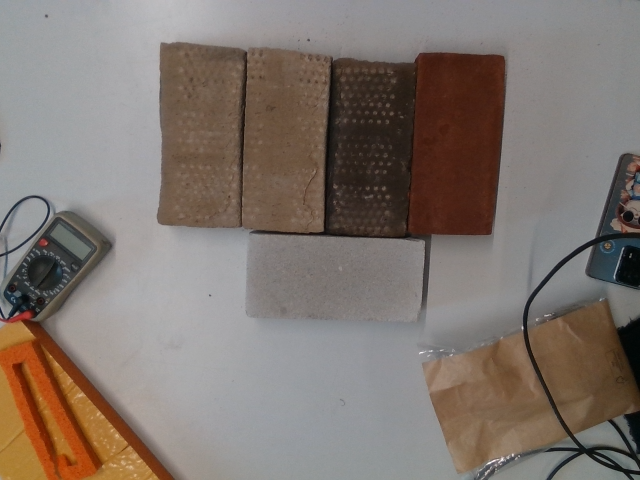brick: (414, 53, 505, 238), (242, 52, 331, 232), (244, 233, 424, 321), (158, 45, 243, 227), (330, 62, 412, 235)
